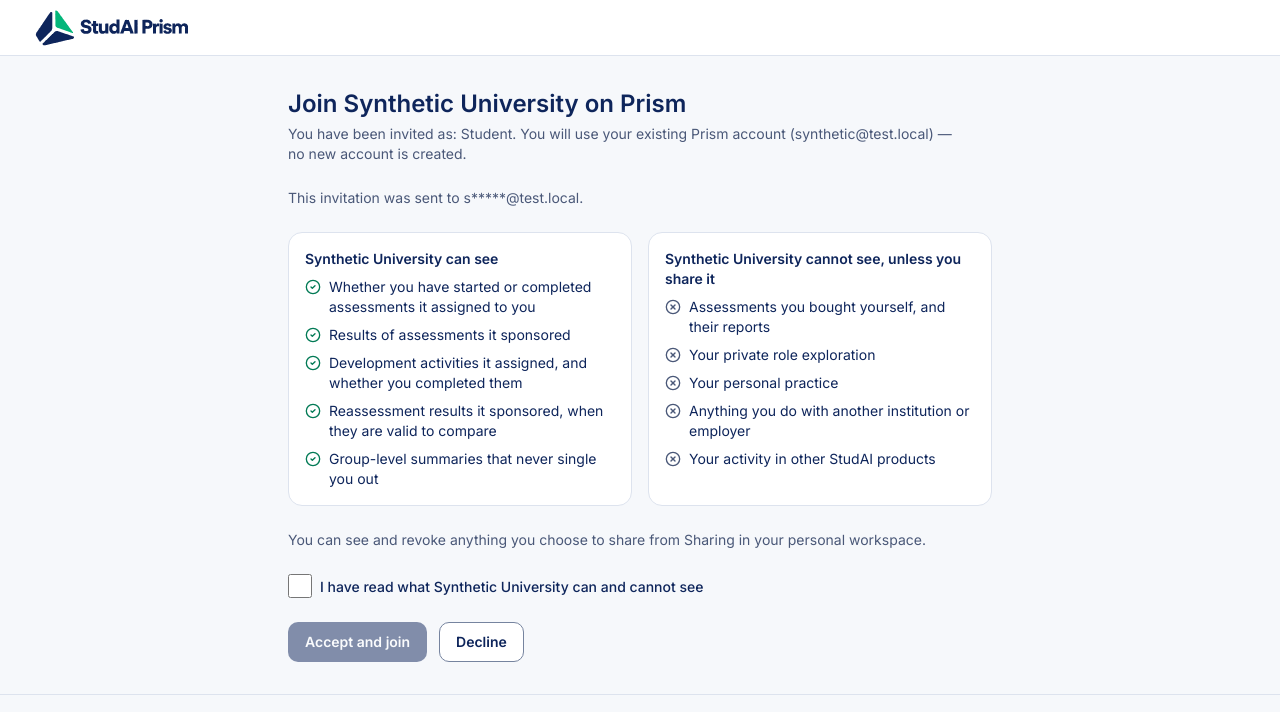
Test case: CampusInvitePage › declining shares nothing
The image size is (1280, 712).
Click the button "Decline": (481, 642) [439,622,524,662]
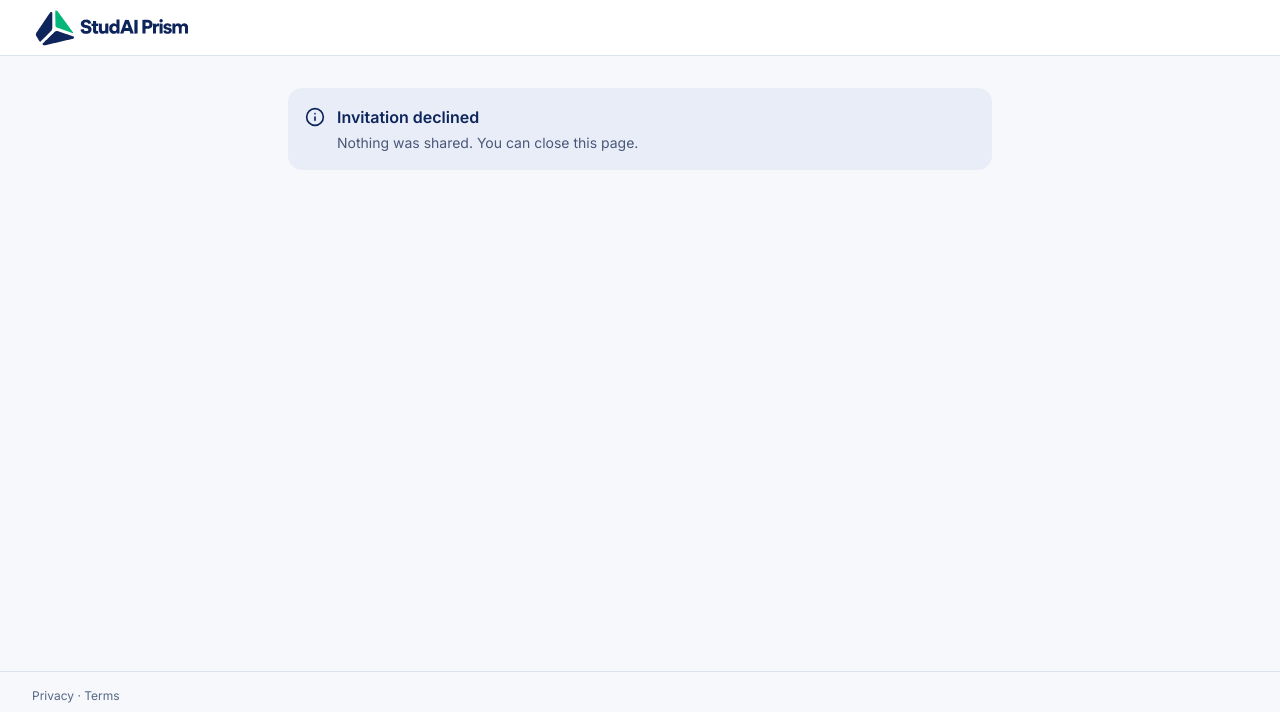
expect the text "Invitation declined" is shown: met, box [337,107,479,127]
